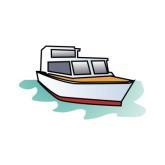boat: (31, 43, 135, 110)
